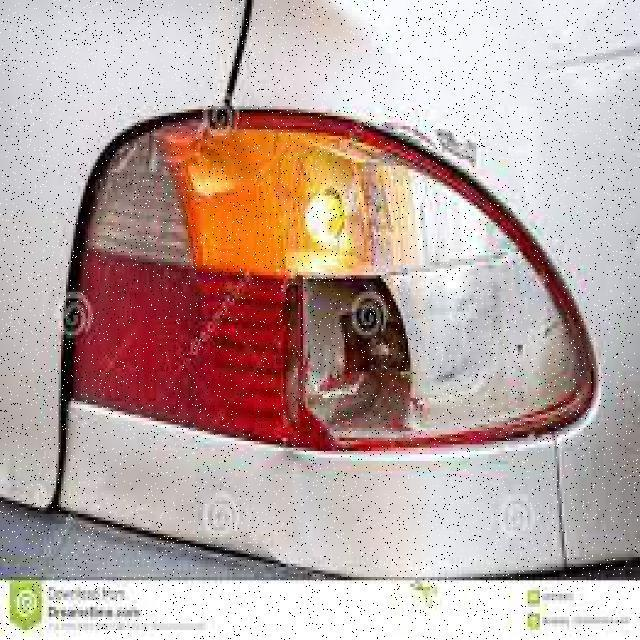Signlight-Damage: (276, 93, 594, 451)
Taillight-Damage: (46, 80, 596, 444)
